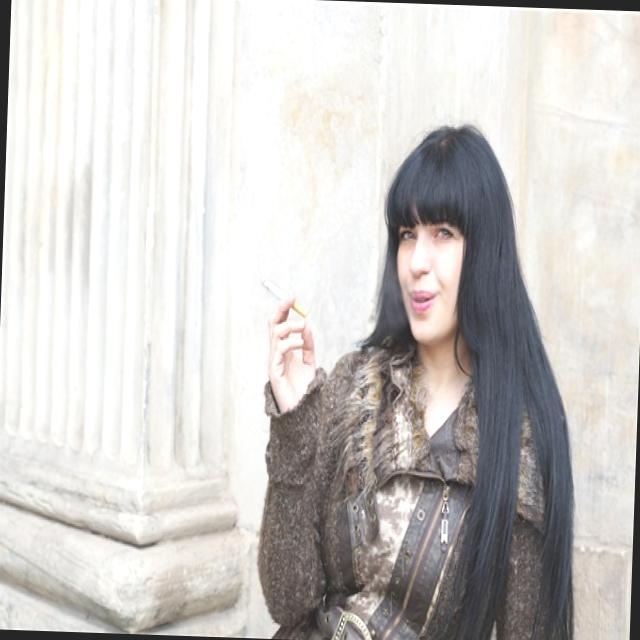smoke: (256, 271, 311, 324)
